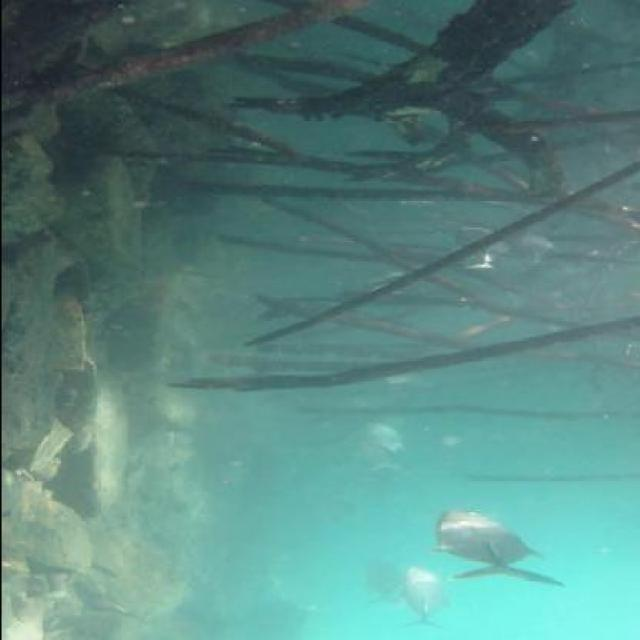Caranx_sexfasciatus_juvenile: (432, 505, 570, 590), (394, 569, 452, 631), (449, 223, 511, 272), (497, 231, 558, 272), (358, 557, 404, 605), (342, 435, 396, 473), (356, 419, 412, 452), (362, 360, 422, 389)
